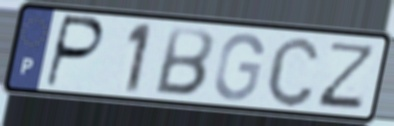1: (125, 21, 155, 96)
B: (151, 24, 216, 99)
C: (263, 33, 323, 109)
G: (212, 30, 266, 103)
P: (42, 12, 107, 91)
Z: (314, 40, 380, 111)
